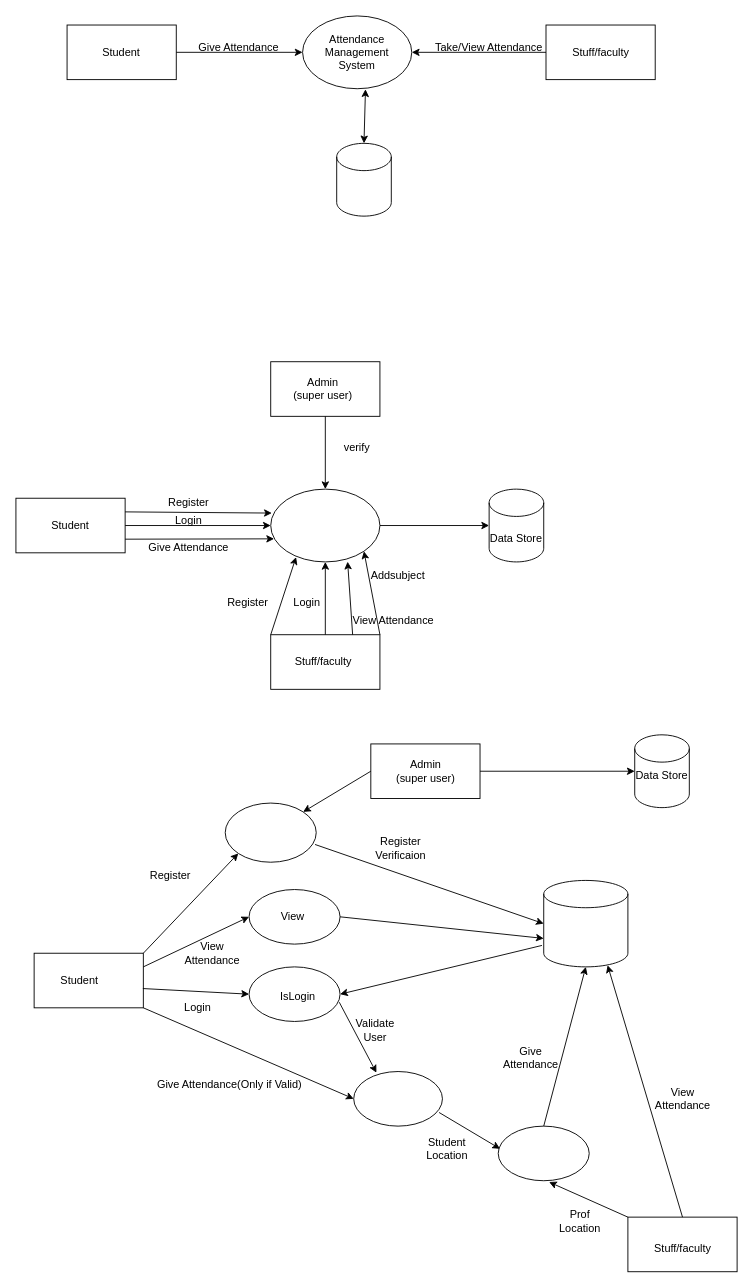
Image size: 753x1288. Some labels were removed from this diagram. The centre of each missing label's shape, as x and y in pixels:
Attendance Request: the point at 397,1098
Location Matching: the point at 543,1153
Login And Attendance: the point at 585,923
Process X: the point at 325,525
Register Verification: the point at 270,832
Store: the point at 363,179
